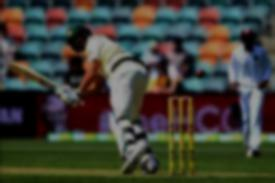batsman: (6, 13, 166, 182)
